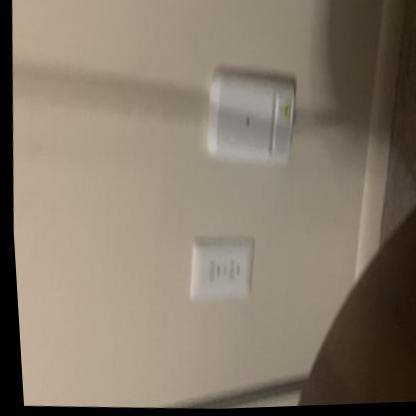OUTLET: (186, 232, 260, 303)
